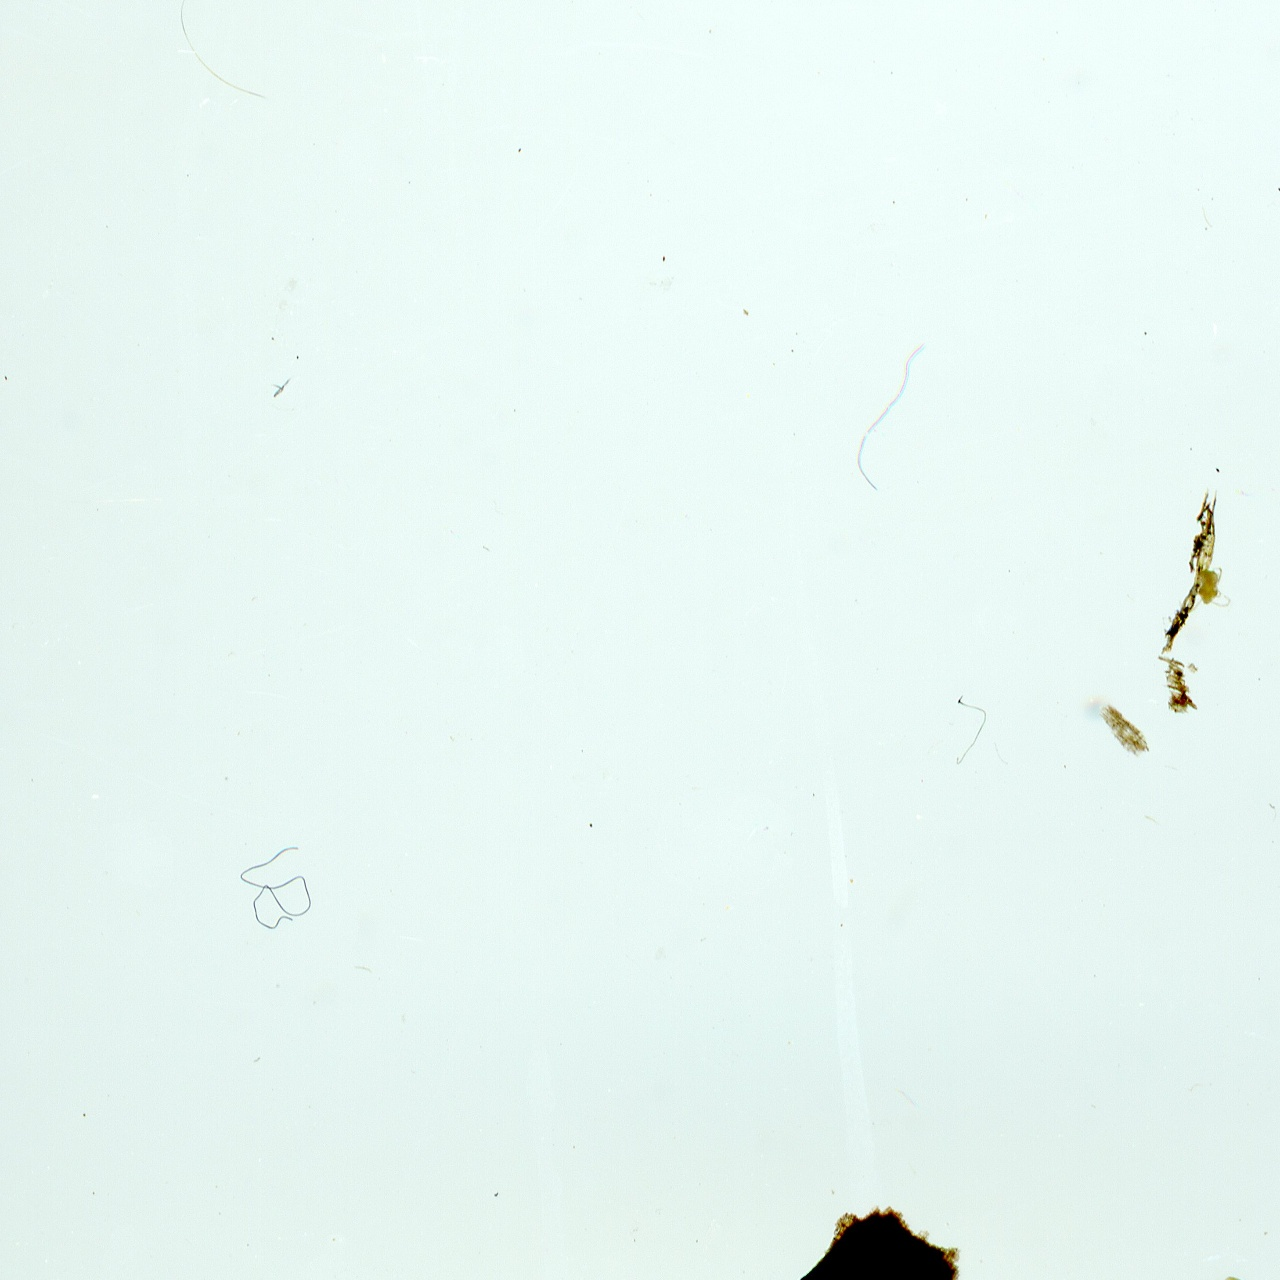arthropod: (1186, 561, 1235, 619)
